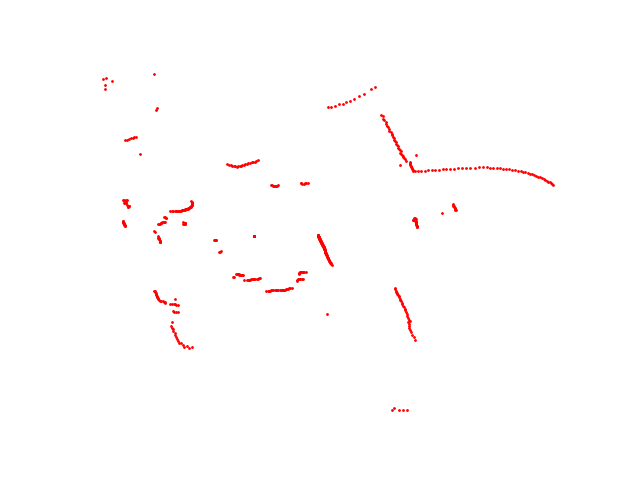person: (268, 181, 315, 190)
